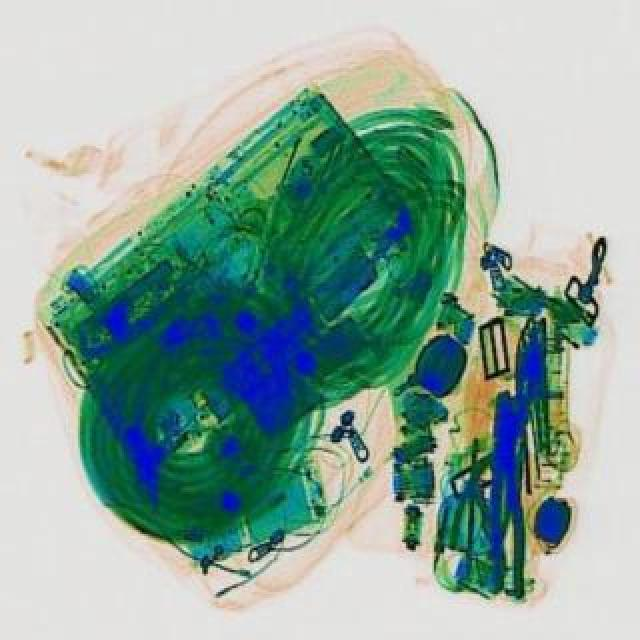wrench: (486, 390, 526, 594)
